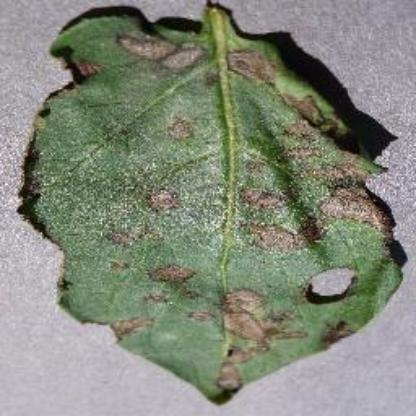Early-Blight: (18, 6, 406, 404)
